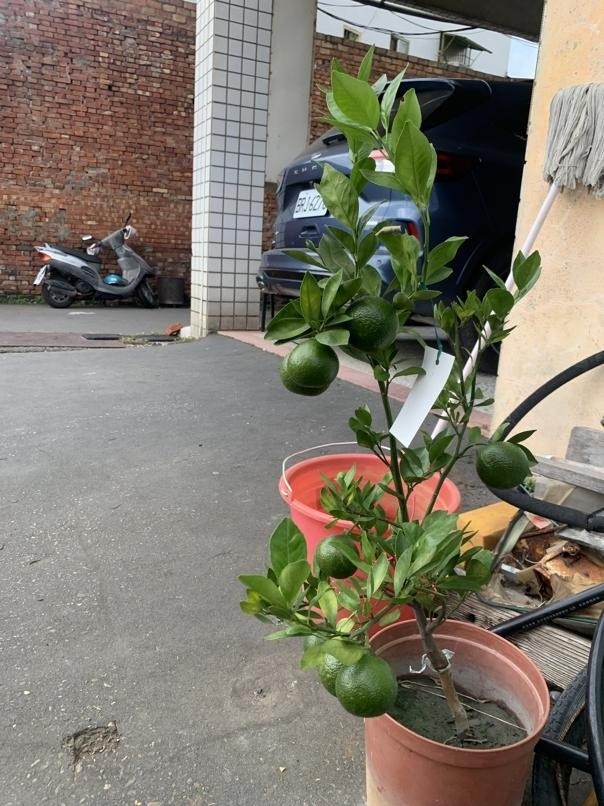Tangerine: (337, 651, 396, 718), (278, 334, 341, 396), (342, 292, 399, 353), (479, 437, 531, 491), (313, 530, 361, 578)
